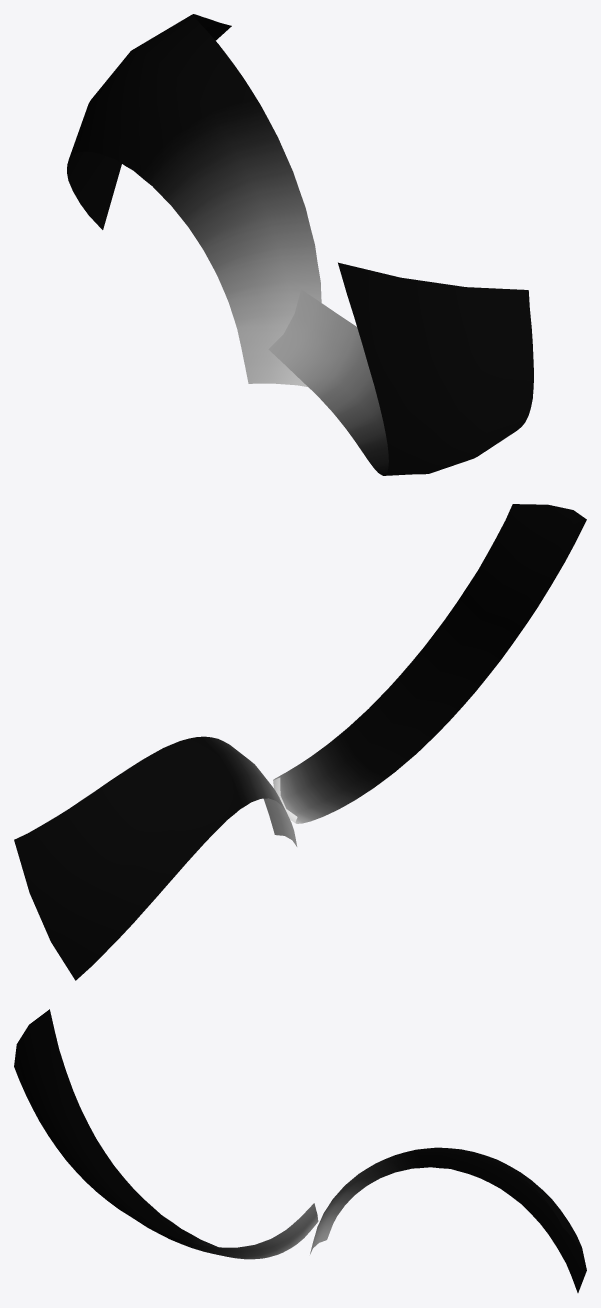
The model's file is Helix_meshes001_1.fbx.
3 renders of one model, top to bottom at view 1: azimuth 30°, elevation 25°; view 2: azimuth 150°, elevation 25°; view 3: azimuth 270°, elevation 25°, orthographic. The views are drawn at different scales.
Visible parts, largest first — view 1: HelixMeshes001; view 2: HelixMeshes001; view 3: HelixMeshes001.
Part boxes in pixels (x1,y1,x2,y2): HelixMeshes001: (67, 14, 533, 475); HelixMeshes001: (14, 504, 586, 980); HelixMeshes001: (14, 1009, 586, 1292).
Bounding box in the file's own units: 35.55 × 35.53 × 86.58.
Materials: 1 (1 with a texture image).
